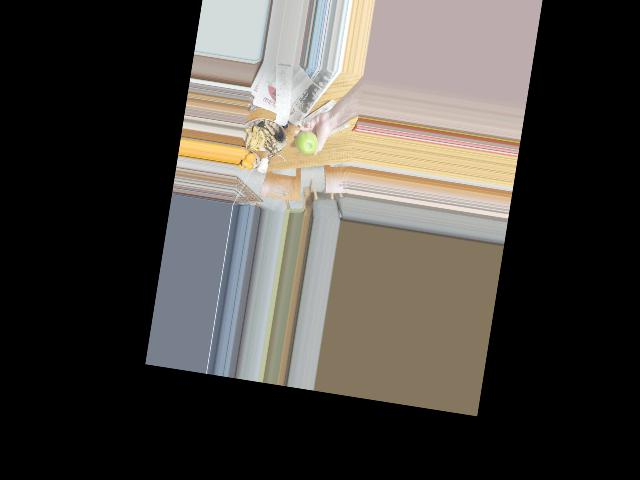apple: (292, 128, 322, 156)
